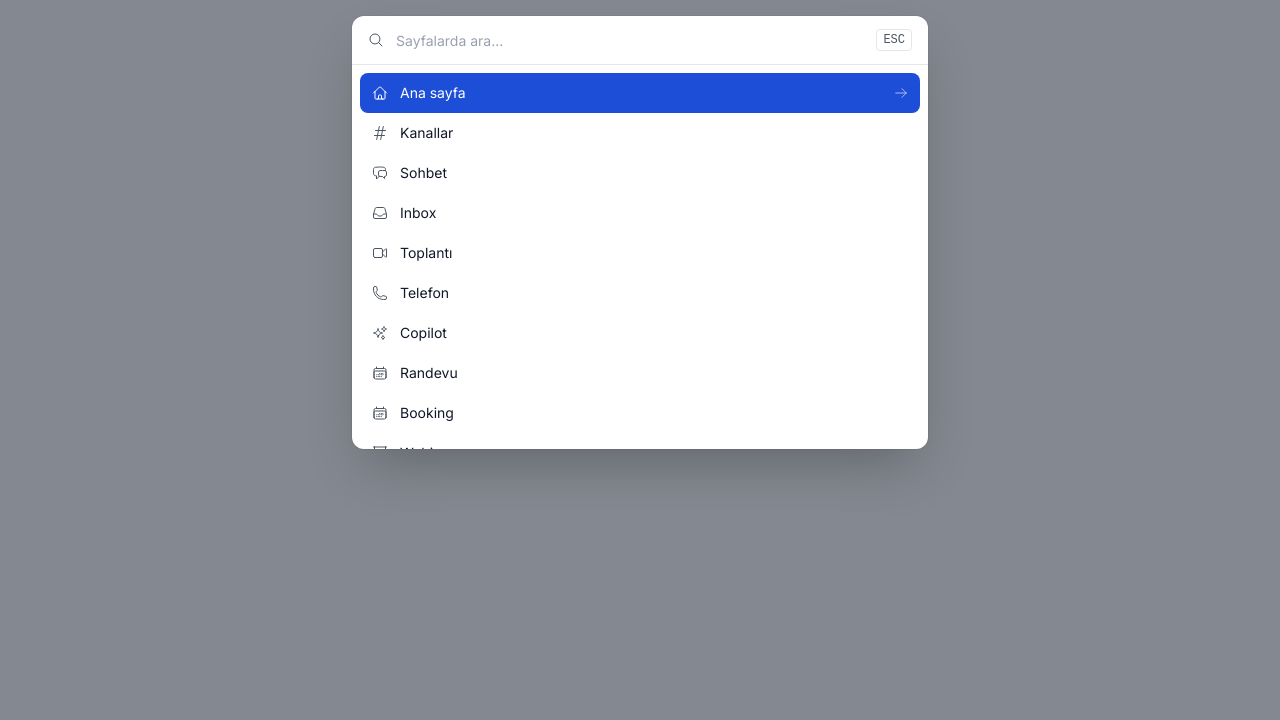
Test: CommandPalette › eşleşme yoksa 'Sonuç yok' gösterir
Step 1. Type "zzzzz" into the field named "Sayfa ara" → point(630, 40), box [396,16,864,64]
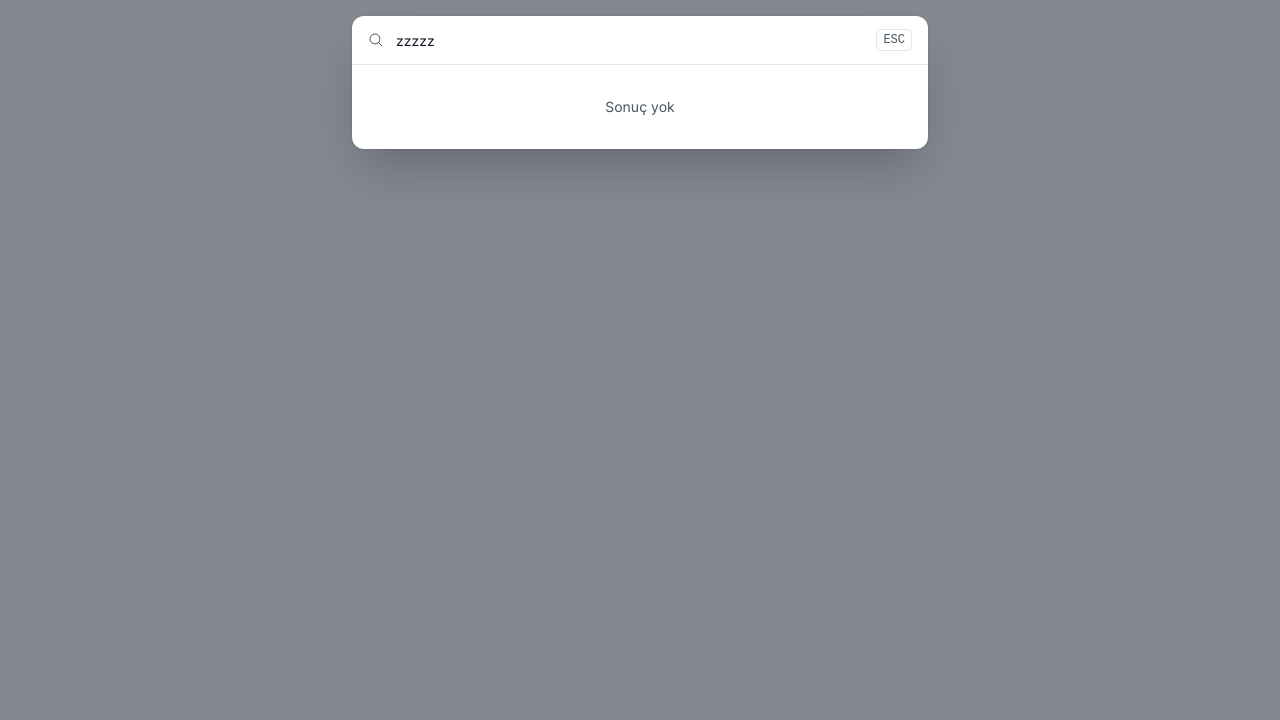
Now the list item "Sonuç yok" is shown, box [605,98,675,115]
